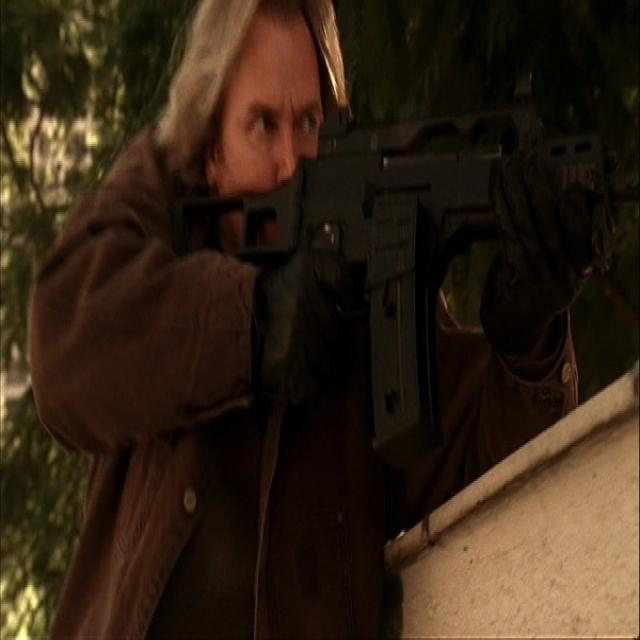rifle: (178, 90, 636, 436)
